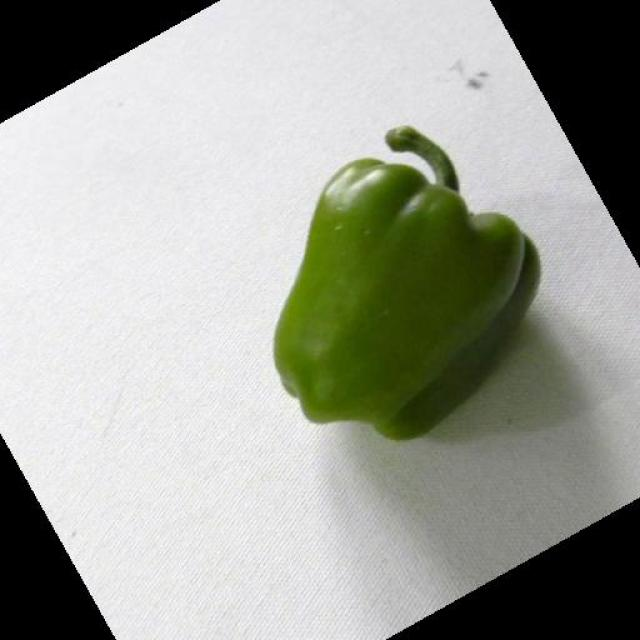Fresh_Capsicum: (238, 102, 520, 416)
